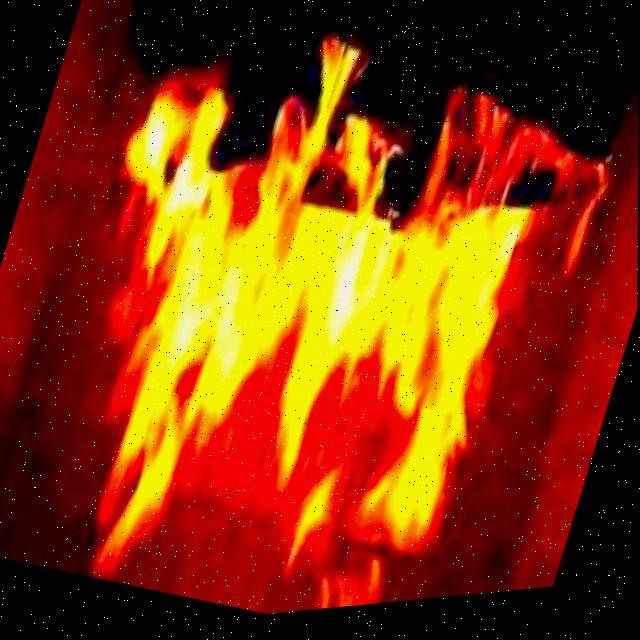Fire: (0, 0, 637, 640)
